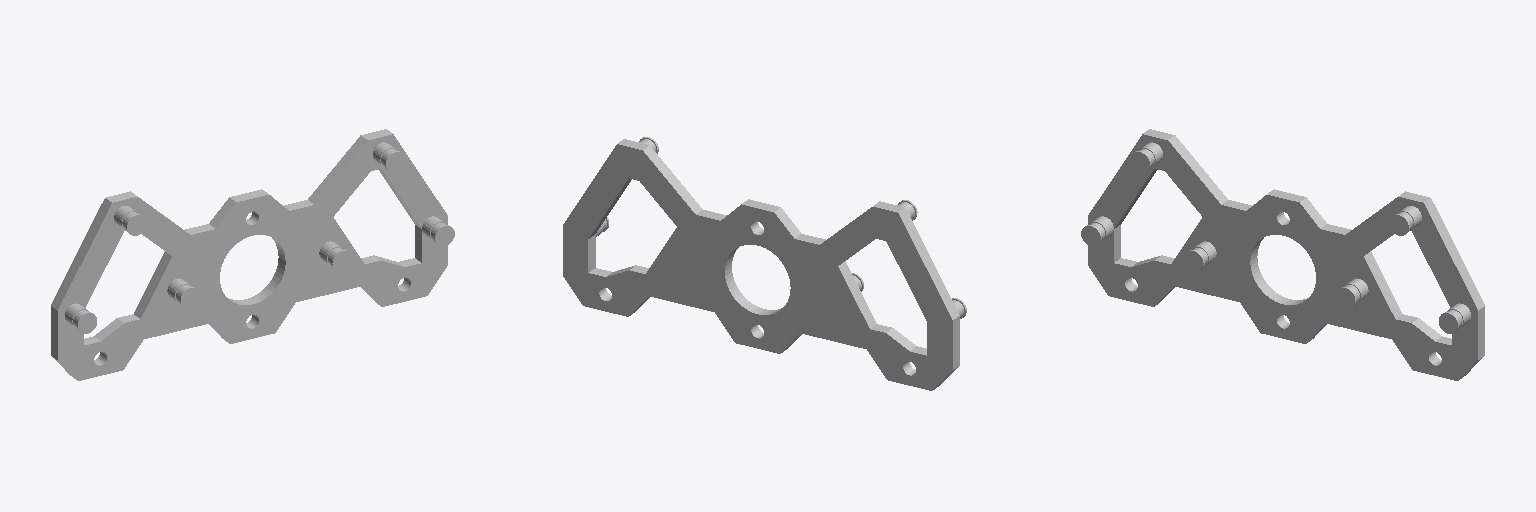
Rendered from RS_LegBaseOut_v1.obj.
The picture shows the model from 3 angles: view 1: azimuth 30°, elevation 25°; view 2: azimuth 150°, elevation 25°; view 3: azimuth 330°, elevation 25°; orthographic projection.
Parts seen in each view (by area): view 1: Mesh19 Group1 Model; view 2: Mesh19 Group1 Model; view 3: Mesh19 Group1 Model.
Part boxes in pixels (bbox=[...]): Mesh19 Group1 Model: bbox=[51, 129, 447, 380]; Mesh19 Group1 Model: bbox=[563, 139, 959, 390]; Mesh19 Group1 Model: bbox=[1088, 129, 1484, 380].
Bounding box in the file's own units: 95 × 39.62 × 8.7.